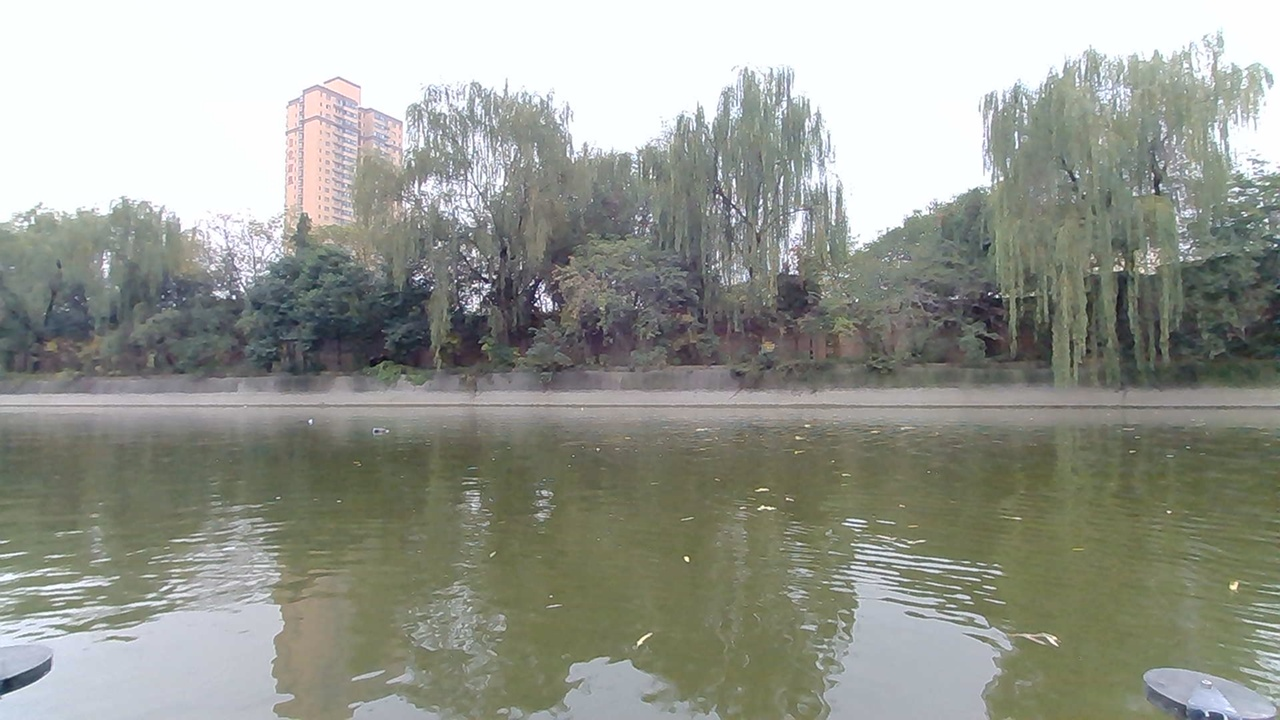bottle: (363, 417, 400, 441)
